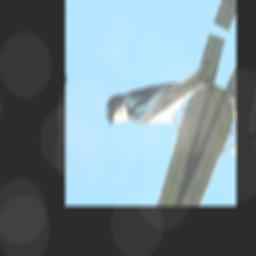Swallow: (99, 22, 218, 161)
